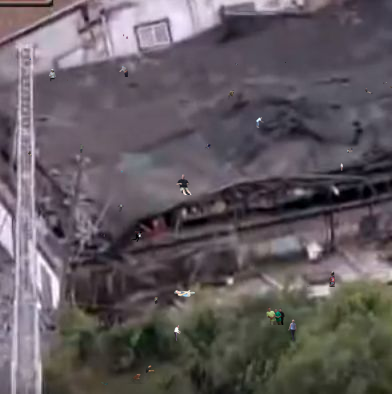Human: (128, 365, 155, 384), (130, 221, 154, 242), (305, 271, 336, 287), (176, 174, 193, 195), (266, 307, 285, 325), (288, 319, 297, 341), (174, 290, 198, 297), (174, 325, 181, 341), (119, 66, 128, 77), (49, 69, 56, 83), (256, 117, 264, 128), (227, 90, 235, 100), (117, 202, 124, 212), (365, 88, 375, 94), (154, 296, 160, 304), (204, 144, 211, 150), (26, 151, 32, 157), (80, 144, 84, 153), (347, 148, 353, 153), (123, 34, 128, 39), (340, 163, 343, 171), (101, 382, 108, 385), (101, 234, 105, 237), (383, 82, 387, 84), (389, 86, 392, 88), (235, 63, 238, 65), (121, 170, 123, 173), (29, 58, 31, 60), (67, 79, 68, 81), (285, 62, 286, 63)
